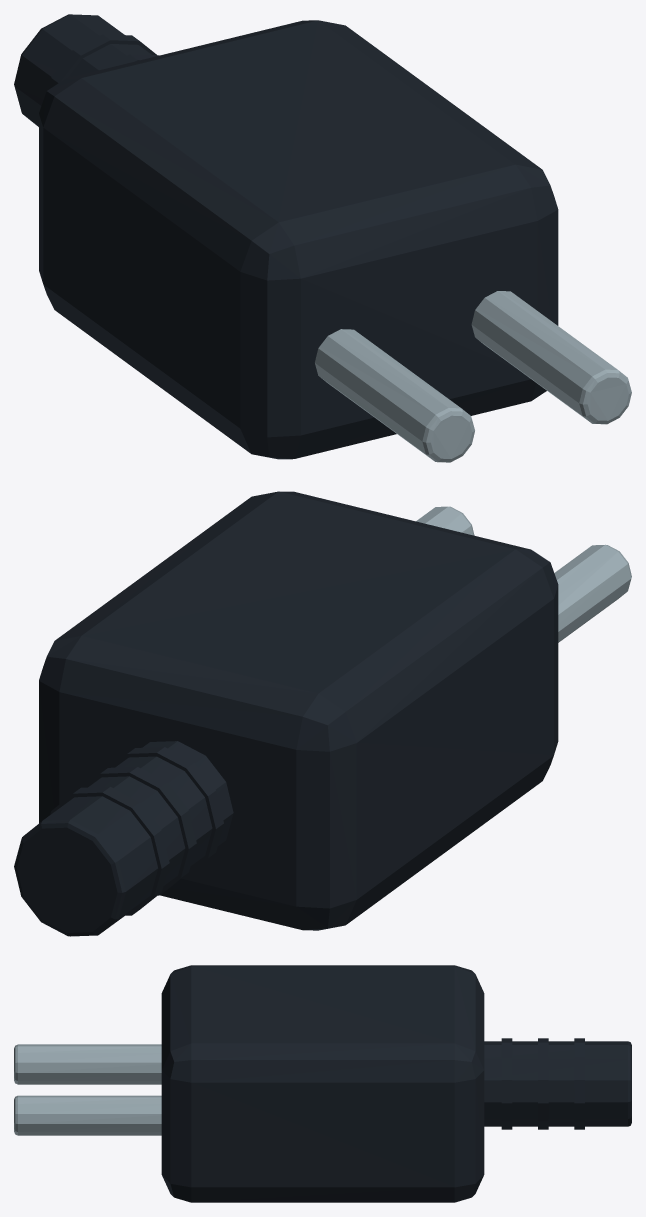
File: plug.glb
3 views of the same model, one above another, from view 1: azimuth 30°, elevation 25°; view 2: azimuth 150°, elevation 25°; view 3: azimuth 270°, elevation 25° (orthographic). The views are drawn at different scales.
Parts seen in each view (by area): view 1: plug; view 2: plug; view 3: plug.
Boxes of the visible parts, bbox=[...] form: plug: bbox=[14, 14, 631, 462]; plug: bbox=[14, 491, 631, 936]; plug: bbox=[14, 965, 631, 1202].
Size of the model in its own units: 0.18 by 0.13 by 0.46.
